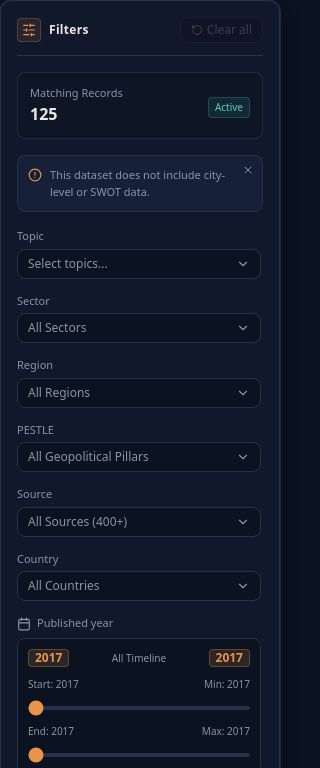
it: FilterSidebar Component › allows selecting a single sector and resets via Clear
expect the text "All Sectors" is shown: met, box [28,320,86,336]
Note: Open Sector dropdown
Step 1. Click the button "All Sectors" → {"x": 139, "y": 328}, box [17,313,261,343]
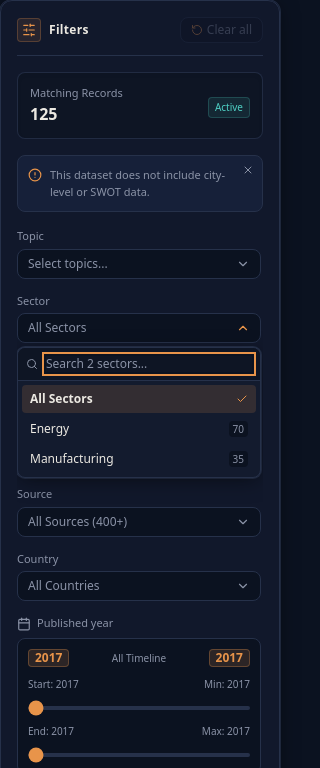
expect the text "Energy" is shown: met
Step 2. Click the text "Energy" → {"x": 50, "y": 429}, box [30,421,69,437]
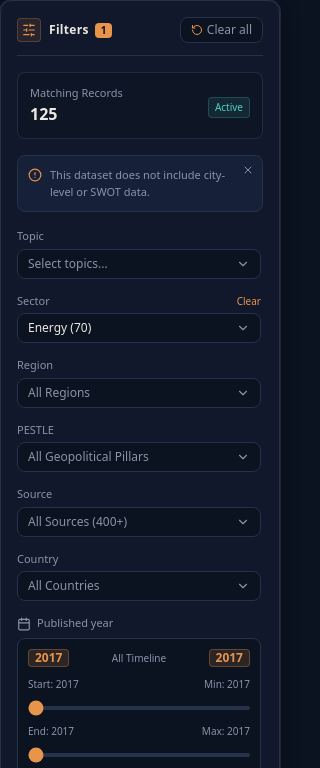
expect the text "Energy (70)" is shown: met, box [28,320,91,336]
